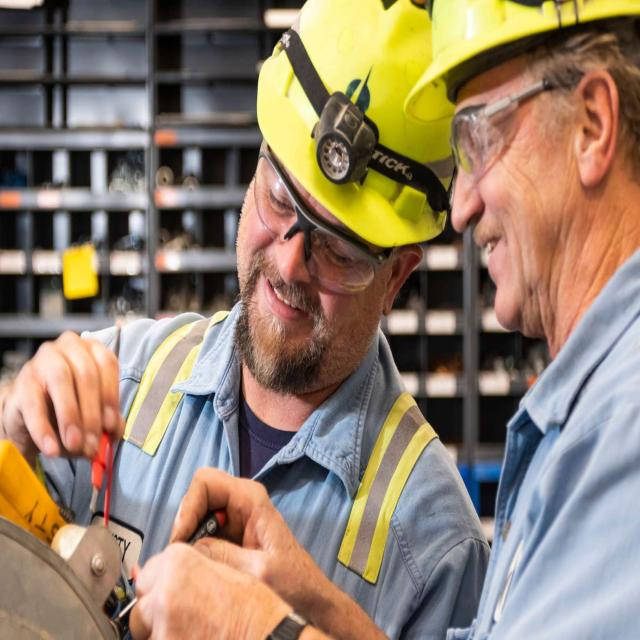goggles: (239, 165, 382, 303), (442, 60, 552, 176)
helmet: (258, 1, 452, 250), (405, 4, 634, 138)
